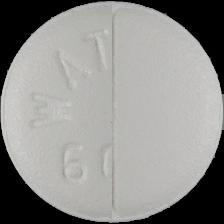63629-5268: (0, 0, 224, 224)
